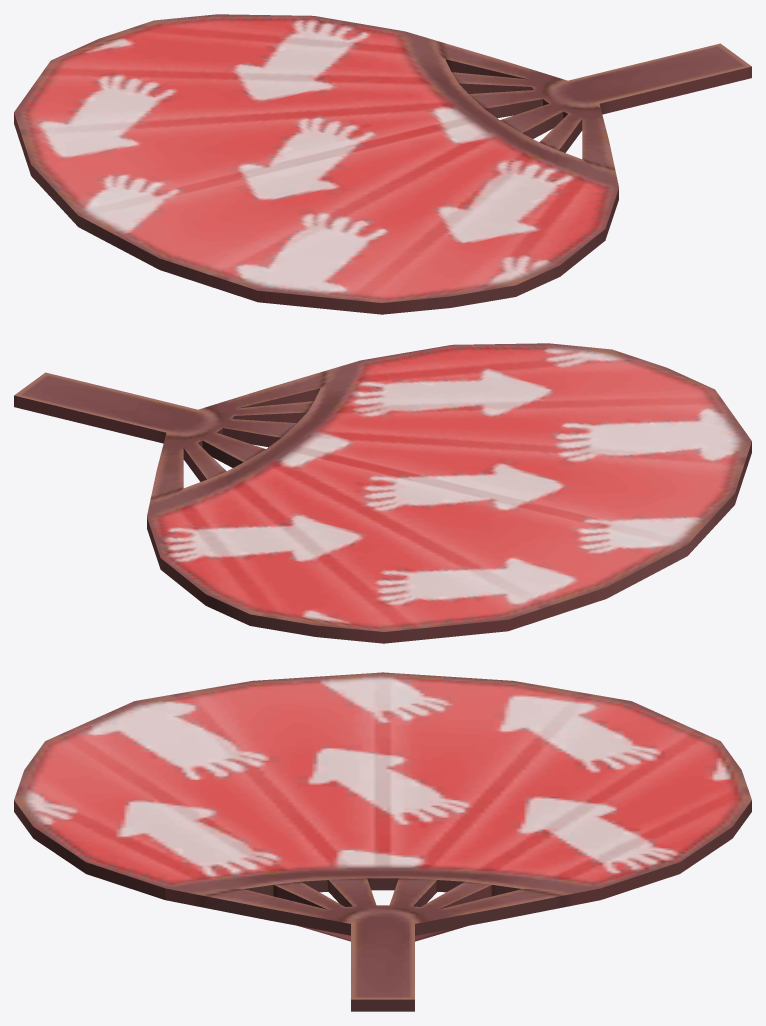
Rendered from shield0141.fbx.
The picture shows the model from 3 angles, top to bottom: view 1: azimuth 30°, elevation 25°; view 2: azimuth 150°, elevation 25°; view 3: azimuth 270°, elevation 25°; orthographic projection.
Parts seen in each view (by area): view 1: shield_0141; view 2: shield_0141; view 3: shield_0141.
Part boxes in pixels (box(x1,y1,x2,y2)): shield_0141: box(14, 14, 751, 314); shield_0141: box(14, 343, 751, 643); shield_0141: box(14, 672, 751, 1011).
Bounding box in the file's own units: 0.4767 × 0.0926 × 0.4542.
